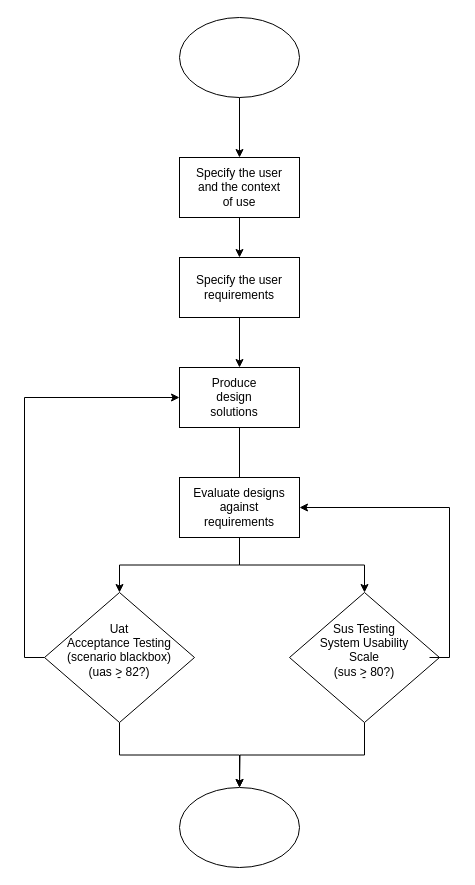
This 475x885 diagram has some shape labels left out. Here are the shapes that lost their labels. From the top down, the centre of each, then its label:
At point 239,57: "Mulai".
At point 239,827: "end".
